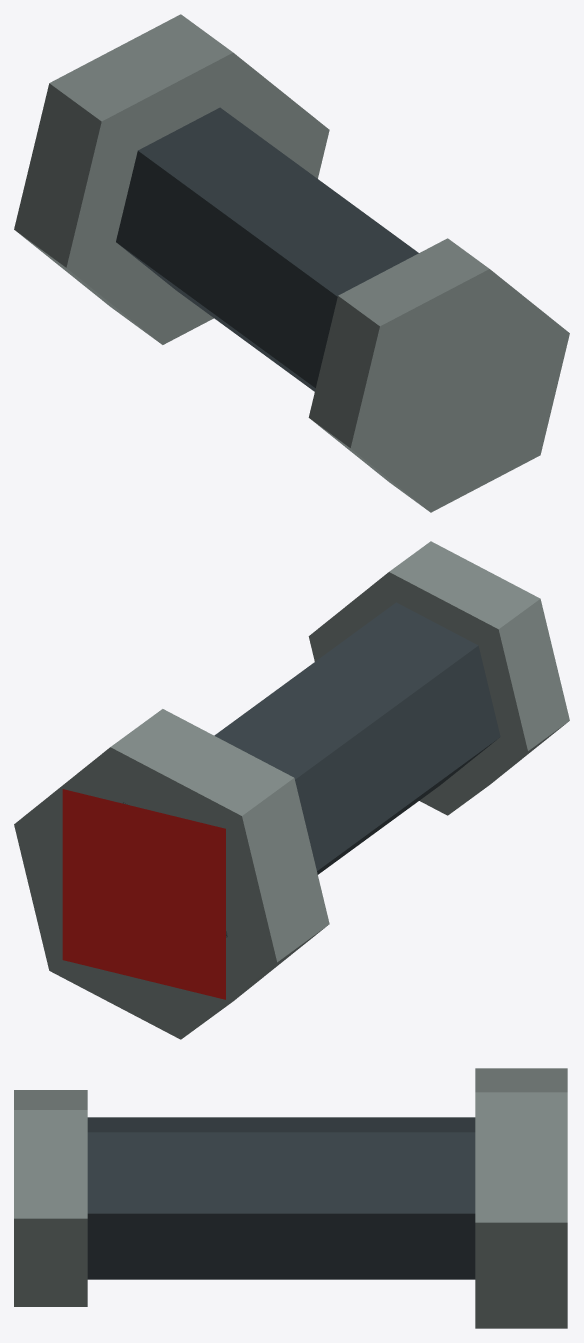
3 renders of one model, top to bottom at view 1: azimuth 30°, elevation 25°; view 2: azimuth 150°, elevation 25°; view 3: azimuth 270°, elevation 25°, orthographic. The views are drawn at different scales.
Parts seen in each view (by area): view 1: mount; view 2: mount; view 3: mount.
Boxes of the visible parts, <box> form: mount: <box>14,14,569,512</box>; mount: <box>14,541,569,1039</box>; mount: <box>14,1068,567,1328</box>.
Bounding box in the file's own units: 3.48 × 3.48 × 7.23.
